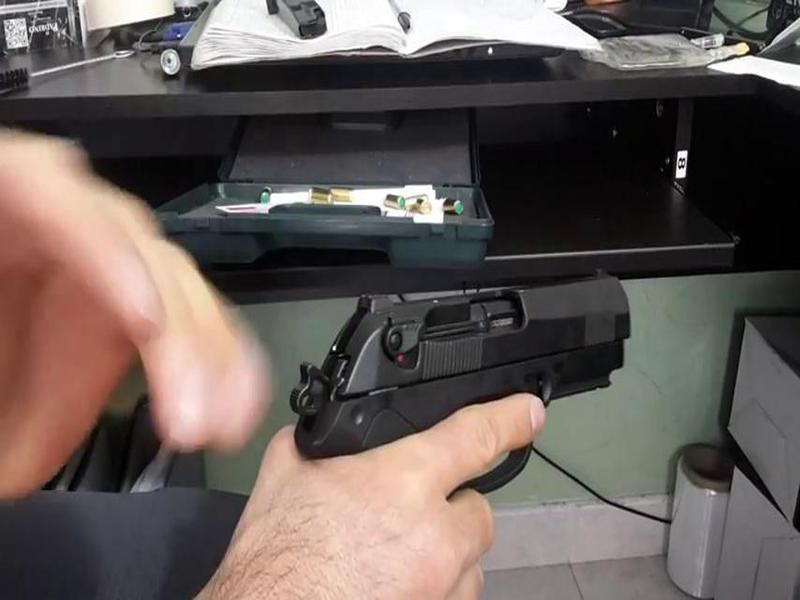Pistola: (285, 269, 646, 502)
